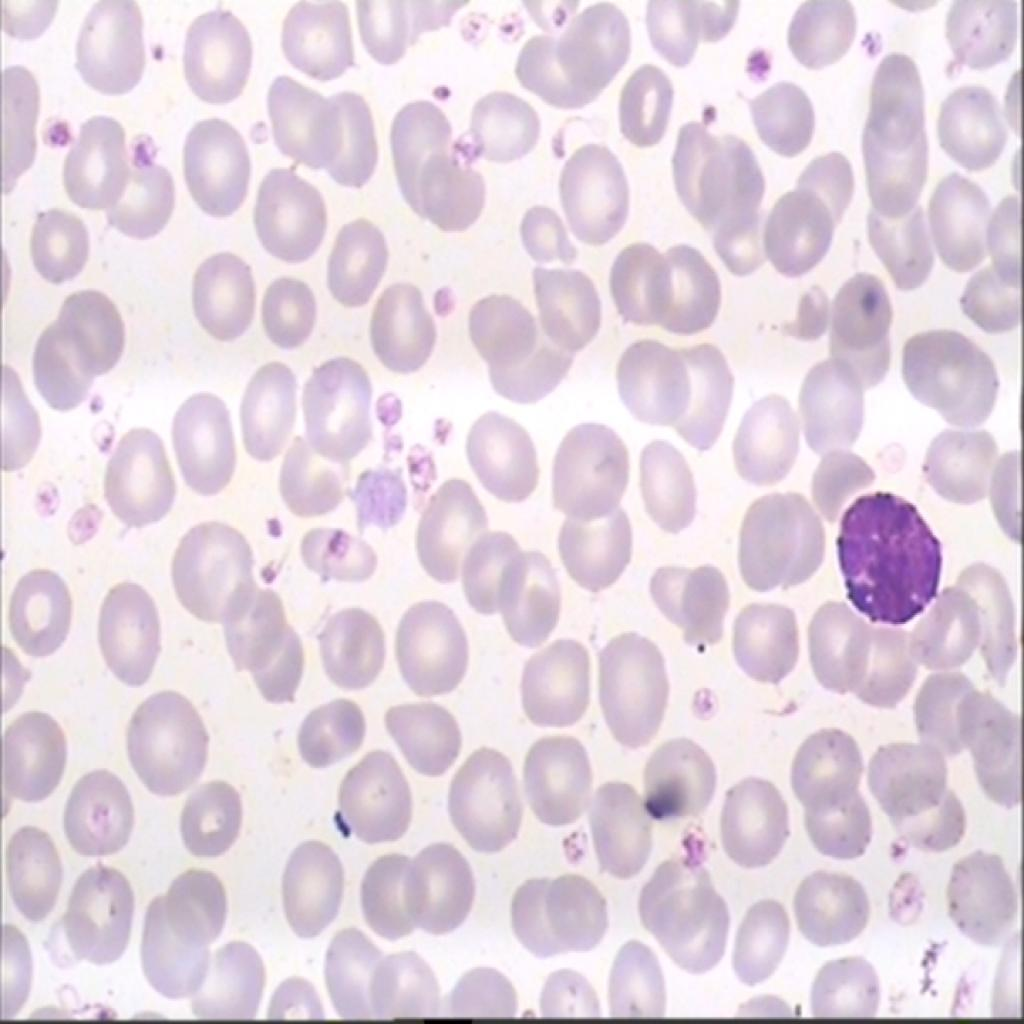Basofil: (825, 466, 949, 636)
Platelet: (118, 121, 164, 181), (740, 43, 782, 105), (368, 362, 404, 428), (61, 494, 101, 548), (354, 466, 391, 524), (407, 448, 448, 500), (680, 86, 724, 126), (449, 126, 485, 174), (424, 409, 468, 446), (680, 823, 707, 880), (23, 466, 54, 514), (495, 2, 526, 50), (40, 110, 70, 158), (430, 71, 460, 119), (144, 30, 178, 71), (454, 4, 484, 50), (320, 519, 353, 560), (253, 556, 286, 596), (549, 0, 586, 34), (878, 823, 908, 864), (858, 286, 884, 331), (428, 268, 451, 318), (90, 416, 116, 459), (558, 820, 588, 854), (687, 681, 720, 711), (260, 508, 286, 546), (858, 23, 876, 71), (84, 379, 108, 414)
